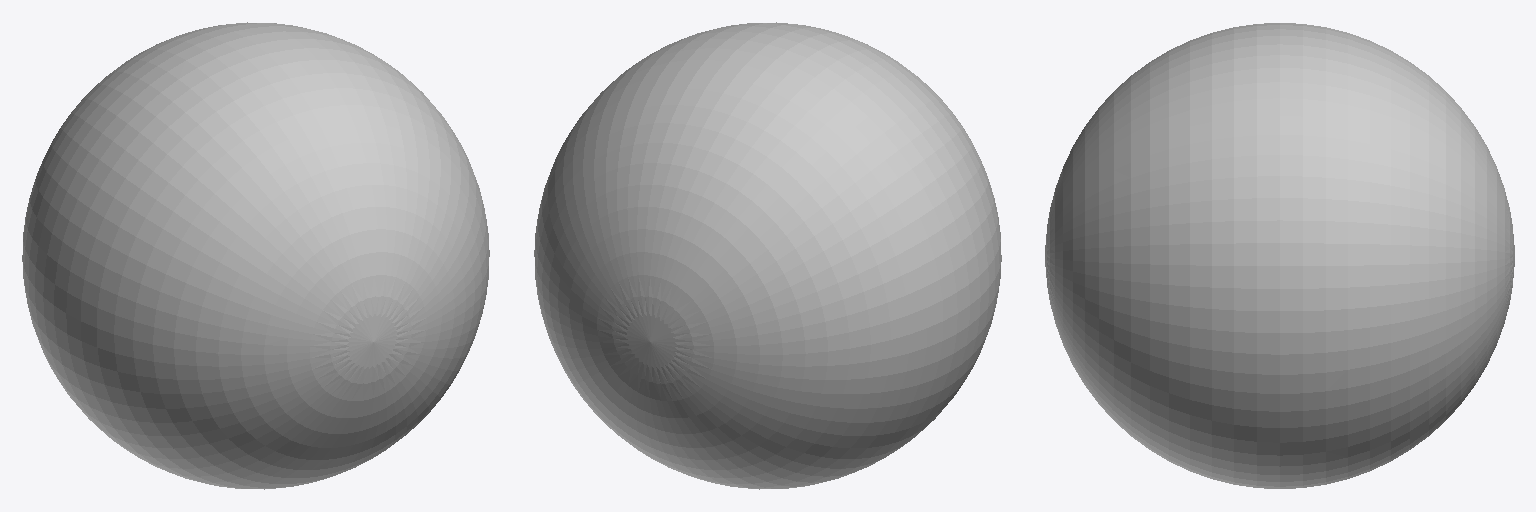
The model's file is Ball.obj.
3 views of the same model, side by side, from view 1: azimuth 30°, elevation 25°; view 2: azimuth 150°, elevation 25°; view 3: azimuth 270°, elevation 25° (orthographic).
Parts seen in each view (by area): view 1: Ball_Sphere; view 2: Ball_Sphere; view 3: Ball_Sphere.
Part boxes in pixels (left/top/right/bottom): Ball_Sphere: left=22, top=22, right=489, bottom=489; Ball_Sphere: left=534, top=22, right=1001, bottom=489; Ball_Sphere: left=1045, top=23, right=1514, bottom=488.
Bounding box in the file's own units: 0.2513 × 0.2513 × 0.2535.